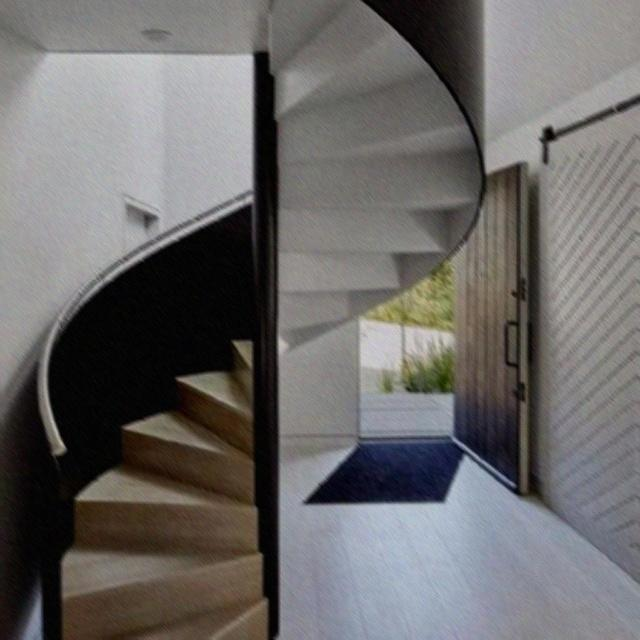stair: (2, 0, 501, 638)
